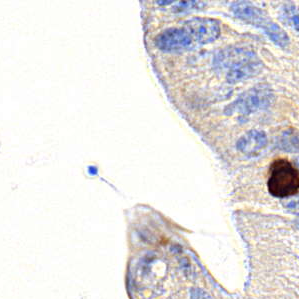Lymphocyte: (265, 158, 299, 197)
